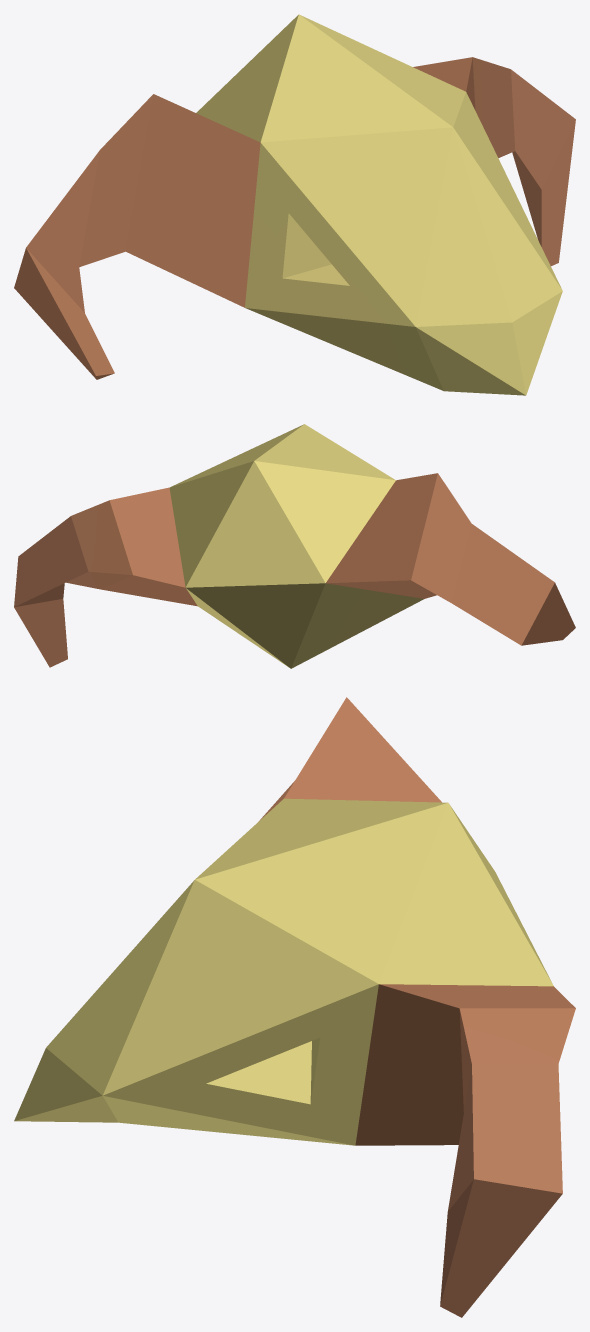
File: Skull.glb
3 renders of one model, top to bottom at view 1: azimuth 30°, elevation 25°; view 2: azimuth 150°, elevation 25°; view 3: azimuth 270°, elevation 25°, orthographic. The views are drawn at different scales.
Visible parts, largest first — view 1: Icosphere; view 2: Icosphere; view 3: Icosphere.
Part boxes in pixels (box(x1,y1,x2,y2)): Icosphere: box(14, 14, 575, 395); Icosphere: box(14, 424, 575, 668); Icosphere: box(14, 697, 575, 1317).
Bounding box in the file's own units: 0.1992 × 0.0989 × 0.1356.
1 material, 1 textured.
